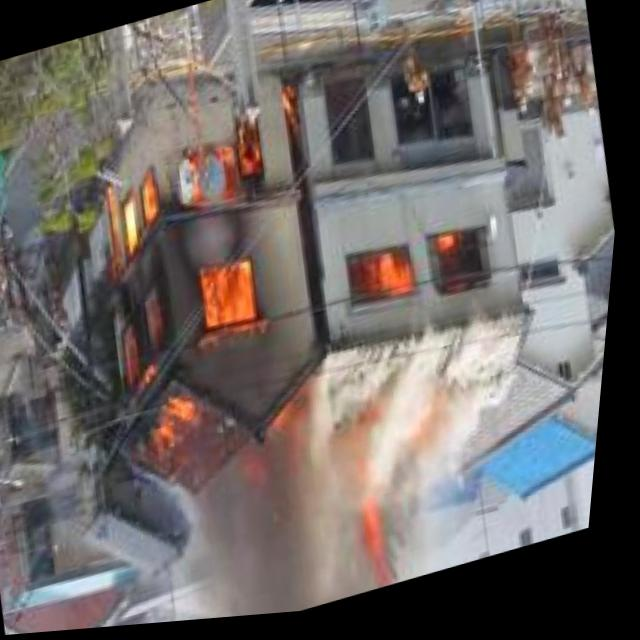Fire: (61, 53, 350, 489), (325, 394, 424, 600), (344, 225, 492, 309)
